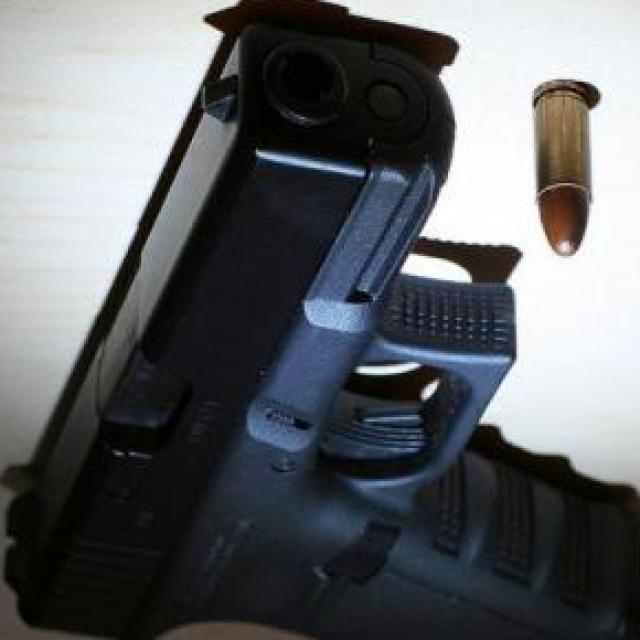pistol: (2, 13, 640, 640)
